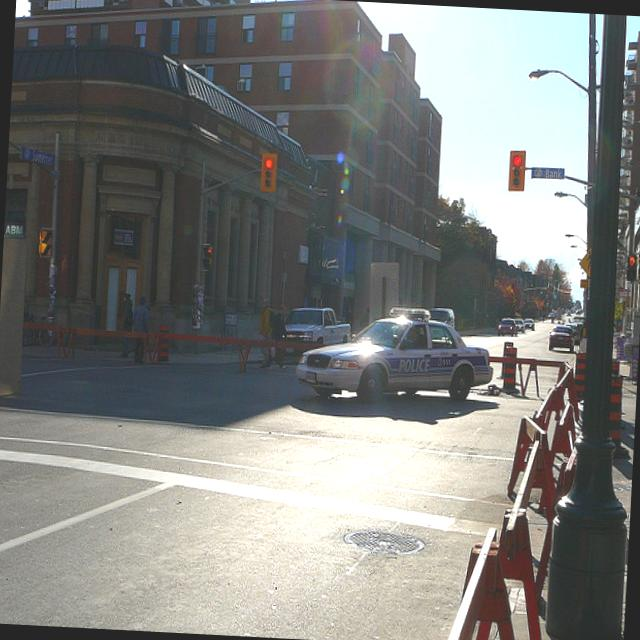Vehicle: (294, 310, 498, 414), (278, 306, 352, 350), (550, 325, 576, 353), (426, 306, 456, 330), (428, 308, 458, 330), (496, 316, 520, 338), (564, 322, 584, 346), (513, 317, 526, 333), (524, 318, 535, 332), (572, 316, 584, 322), (548, 312, 555, 319), (561, 308, 565, 316), (575, 310, 580, 316), (554, 312, 558, 318)
